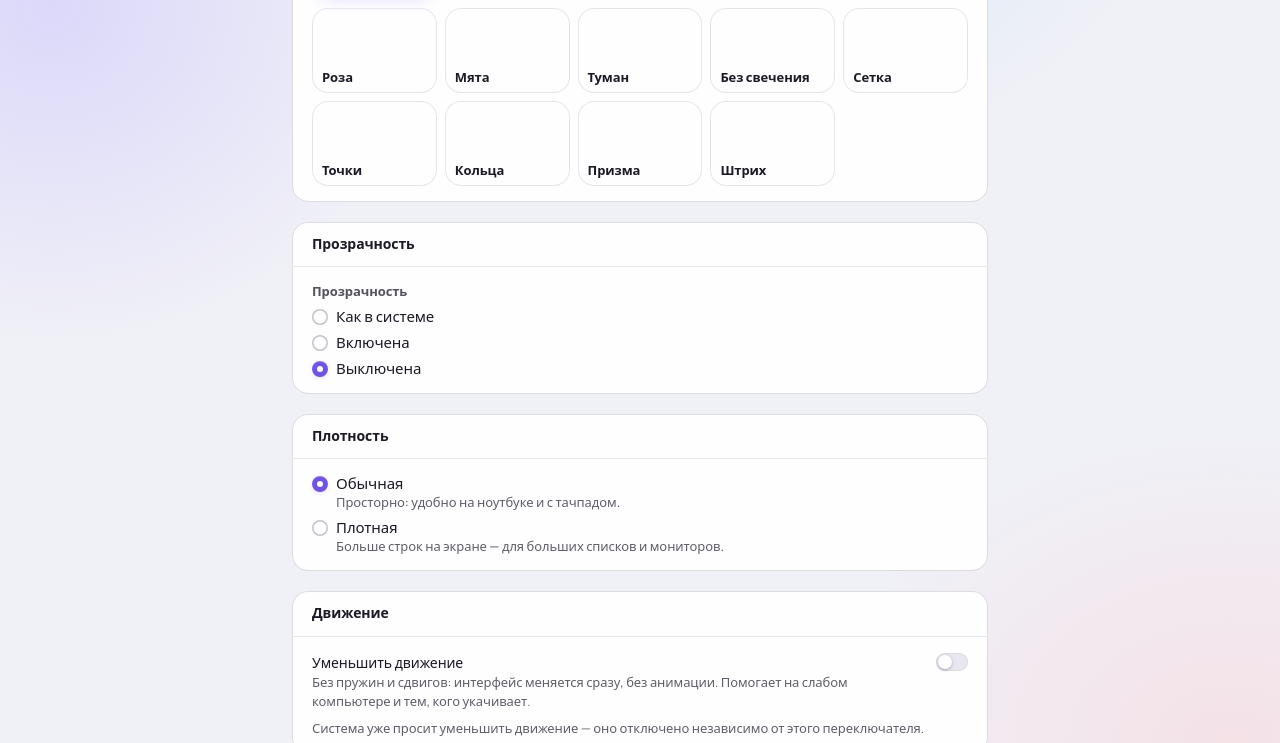
appearance choice persists and updates the html attribute
(page scrolled)
expect the radio button labelled "Выключена" is checked: met, box top-left (312, 358), bottom-right (421, 379)
What coordinates should you click on to do the following:
click the radio button labelled "Включена"
I would click on:
 (361, 343)
Its box is top-left (312, 332), bottom-right (410, 353).
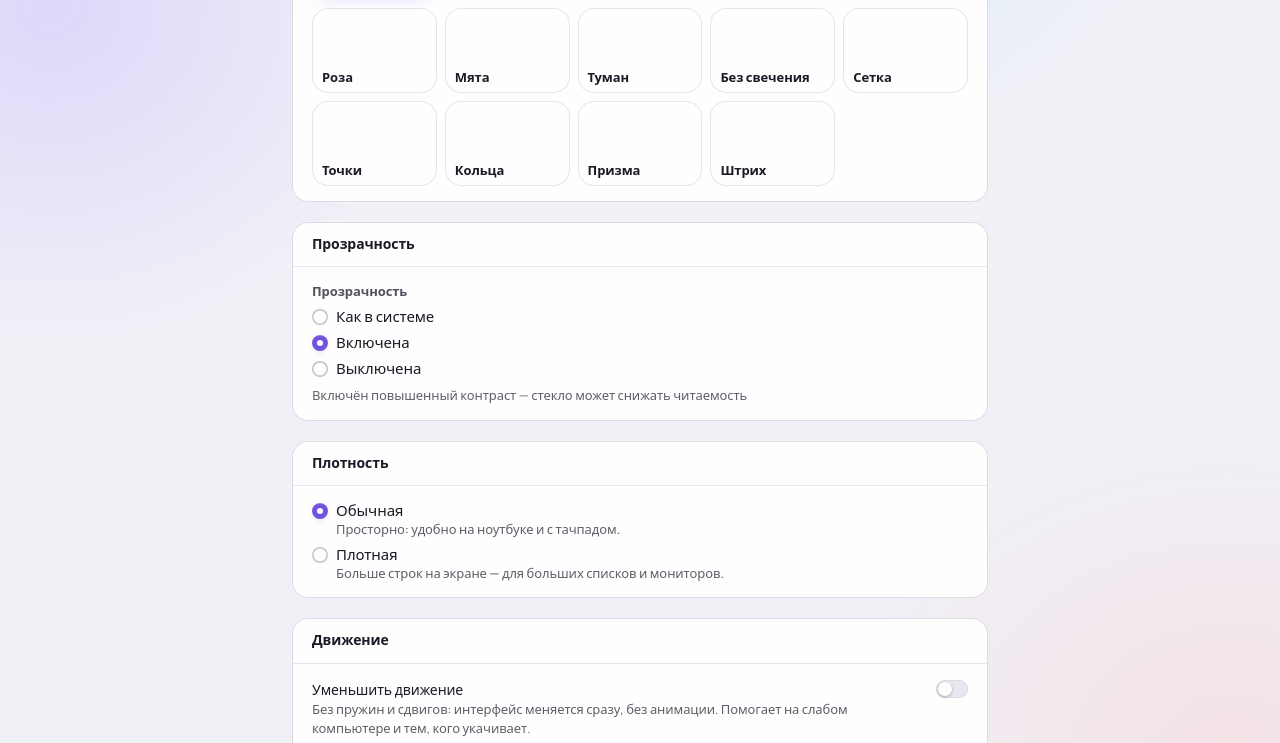
expect the text "Включён повышенный контраст — стекло может снижать читаемость" is shown: met, box top-left (312, 386), bottom-right (747, 404)
What coordinates should you click on to do the following:
click the radio button labelled "Как в системе"
I would click on:
 (373, 317)
Its box is top-left (312, 306), bottom-right (434, 327).
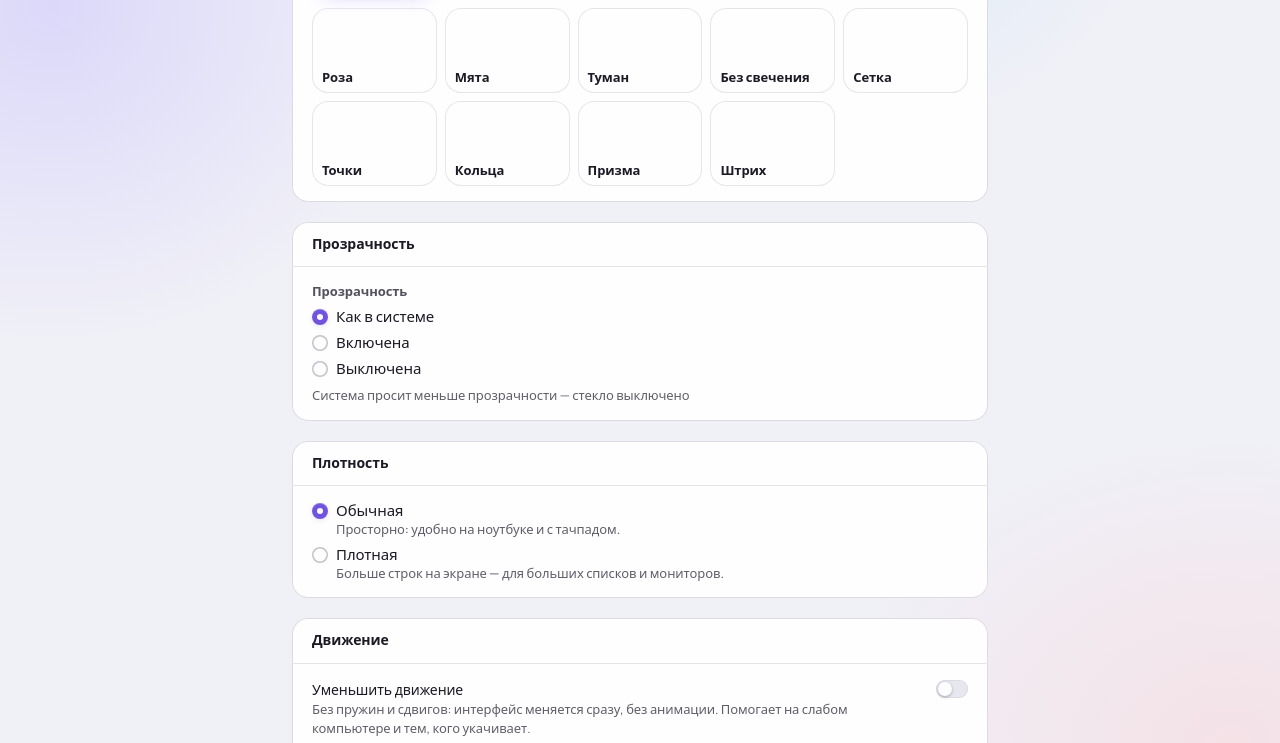
expect the text "Система просит меньше прозрачности — стекло выключено" is shown: met, box top-left (312, 386), bottom-right (690, 404)
